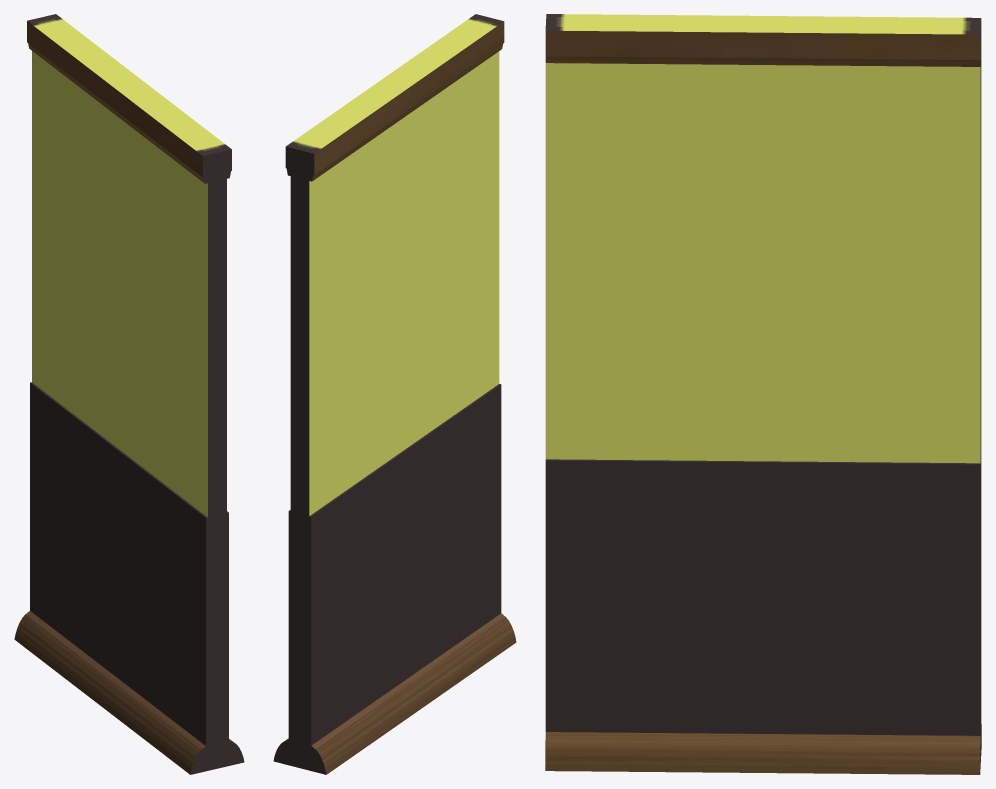
Rendered from Wallpart.fbx.
The picture shows the model from 3 angles, left to right: view 1: azimuth 30°, elevation 25°; view 2: azimuth 150°, elevation 25°; view 3: azimuth 270°, elevation 25°; orthographic projection. The views are drawn at different scales.
Parts seen in each view (by area): view 1: wall; view 2: wall; view 3: wall.
Boxes of the visible parts, box(x1,y1,x2,y2) form: wall: box(14, 14, 244, 774); wall: box(273, 14, 516, 774); wall: box(545, 14, 981, 774).
Bounding box in the file's own units: 122 × 1197 × 646.
